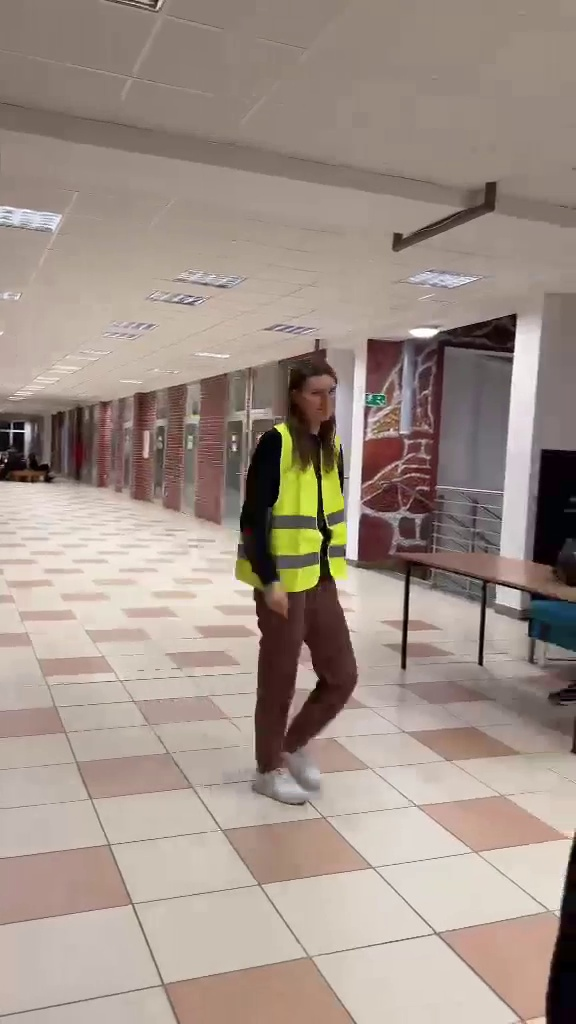vest: (239, 348, 367, 811)
